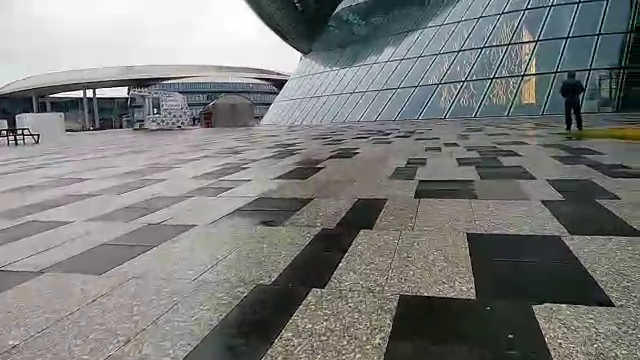kassa: (125, 84, 197, 137)
